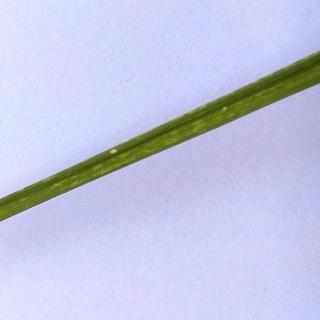Blast: (104, 142, 118, 160)
